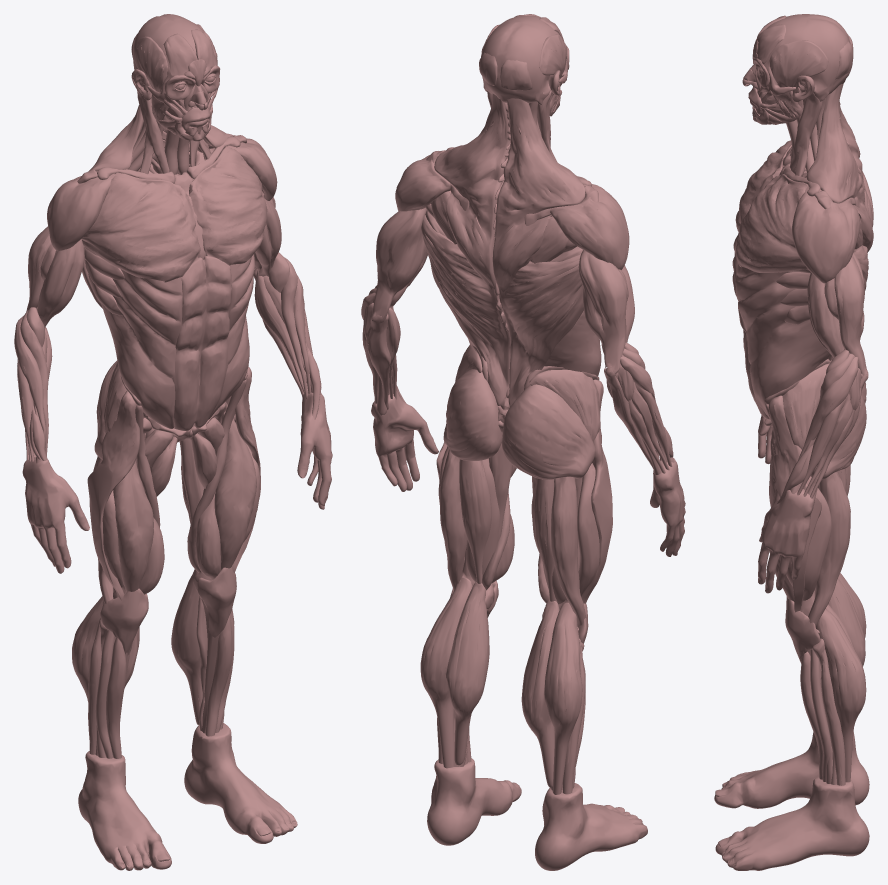
The model's file is ecorche-original.glb.
The picture shows the model from 3 angles, left to right: view 1: azimuth 30°, elevation 25°; view 2: azimuth 150°, elevation 25°; view 3: azimuth 270°, elevation 25°; orthographic projection.
Parts seen in each view (by area): view 1: Object_86, Object_78, Object_75, Object_85, Object_77, Object_76, Object_74, Object_60, Object_58, Object_36, Object_61, Object_23 (+41 smaller); view 2: Object_88, Object_80, Object_82, Object_71, Object_76, Object_77, Object_52, Object_57, Object_72, Object_64, Object_56, Object_87 (+27 smaller); view 3: Object_77, Object_79, Object_85, Object_76, Object_69, Object_82, Object_73, Object_56, Object_87, Object_55, Object_59, Object_66 (+36 smaller).
Part boxes in pixels (x1,y1,x2,y2): Object_86: [81, 172, 200, 282]; Object_78: [101, 269, 182, 428]; Object_75: [172, 255, 231, 431]; Object_85: [189, 146, 267, 265]; Object_77: [184, 723, 297, 843]; Object_76: [78, 751, 171, 870]; Object_74: [22, 457, 89, 573]; Object_60: [87, 391, 139, 600]; Object_58: [214, 411, 256, 570]; Object_36: [100, 567, 236, 655]; Object_61: [113, 458, 153, 591]; Object_23: [106, 615, 232, 758]; Object_88: [421, 215, 583, 406]; Object_80: [492, 98, 585, 307]; Object_82: [434, 94, 510, 302]; Object_71: [502, 384, 595, 479]; Object_76: [535, 783, 647, 870]; Object_77: [427, 758, 521, 845]; Object_52: [445, 582, 489, 765]; Object_57: [544, 602, 582, 794]; Object_72: [443, 369, 502, 460]; Object_64: [578, 250, 627, 374]; Object_56: [420, 577, 472, 768]; Object_87: [481, 15, 567, 104]; Object_77: [715, 777, 869, 870]; Object_79: [735, 264, 830, 419]; Object_85: [735, 174, 808, 272]; Object_76: [714, 732, 869, 808]; Object_69: [792, 186, 860, 283]; Object_82: [806, 83, 873, 252]; Object_73: [758, 489, 814, 593]; Object_56: [816, 608, 866, 782]; Object_87: [750, 14, 851, 101]; Object_55: [803, 471, 850, 653]; Object_59: [768, 395, 821, 612]; Object_66: [834, 252, 868, 375].
Size of the model in its own units: 26.77 by 68.51 by 12.18.
